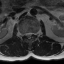CCS_normal: (27, 30, 30, 40)
LFS_normal: (33, 30, 36, 37)
LLS_normal: (30, 30, 33, 37)
RFS_normal: (21, 30, 24, 38)
RLS_normal: (24, 30, 27, 38)
